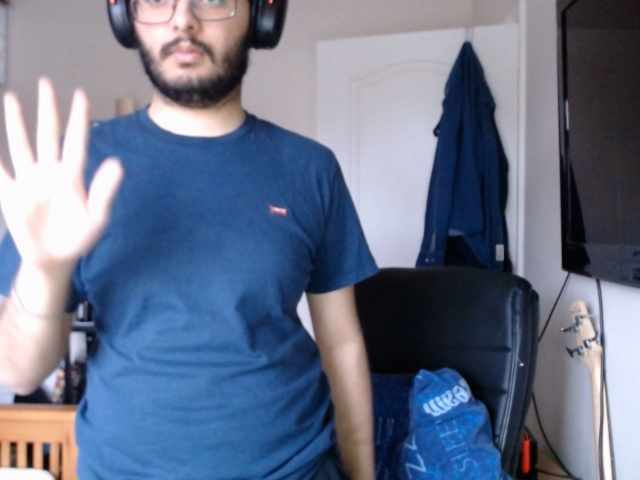Hello: (1, 69, 124, 284)
